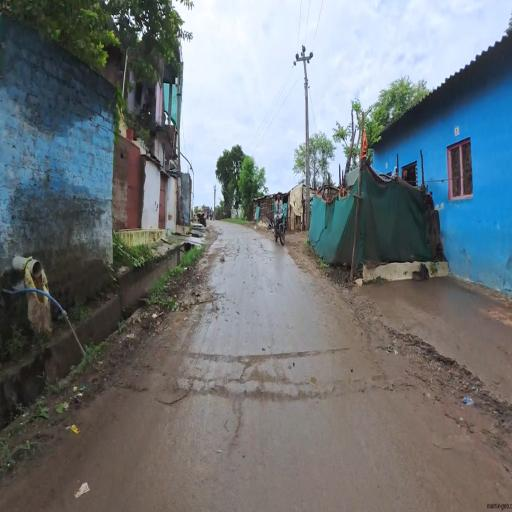longitudinal_crack: (134, 343, 399, 427)
